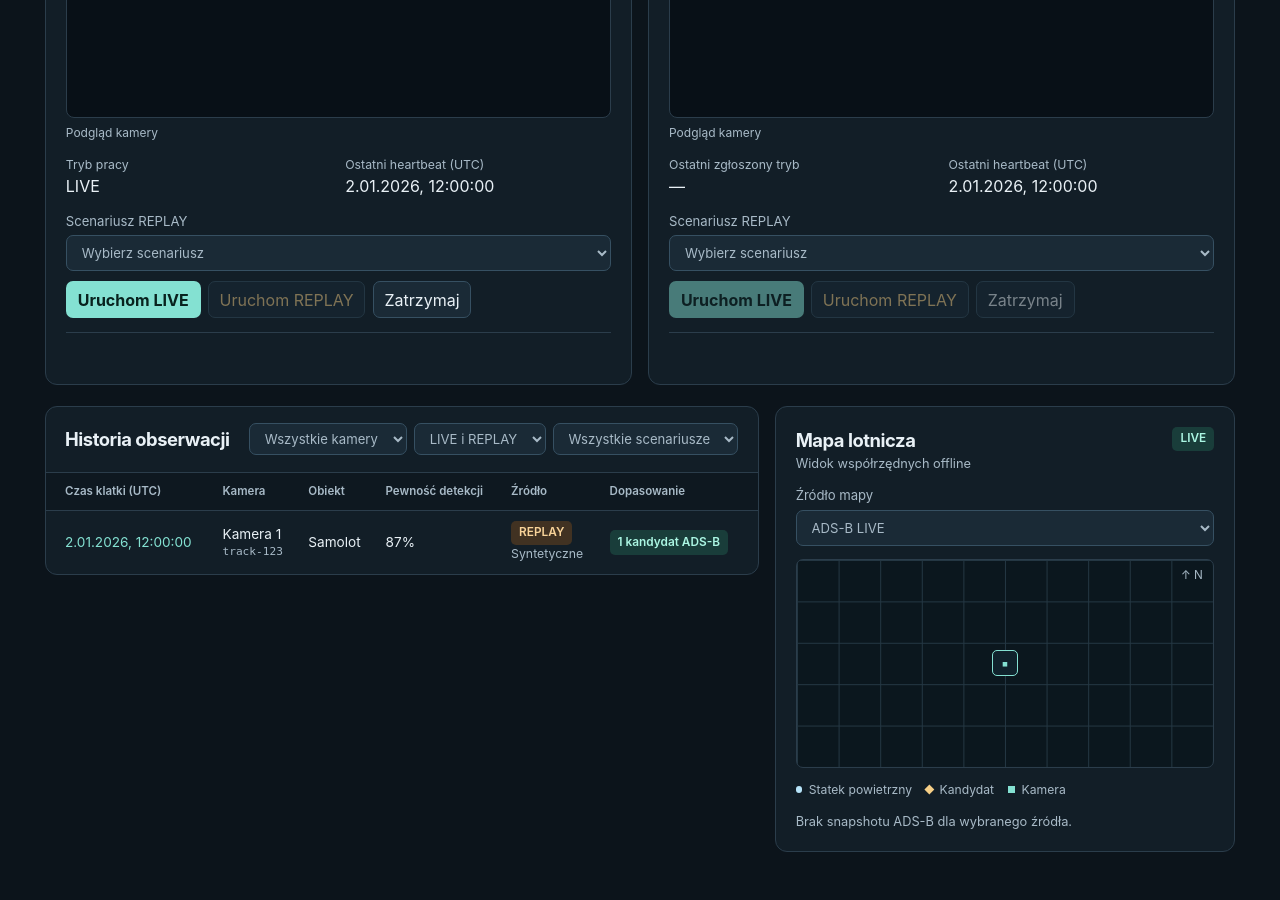
retains details with a visible error and excludes LIVE camera coordinates from REPLAY
This screenshot has width=1280, height=900.
(page scrolled)
Click the button named "Otwórz obserwację first": (128, 542) left=65, top=530, right=192, bottom=555
(page scrolled)
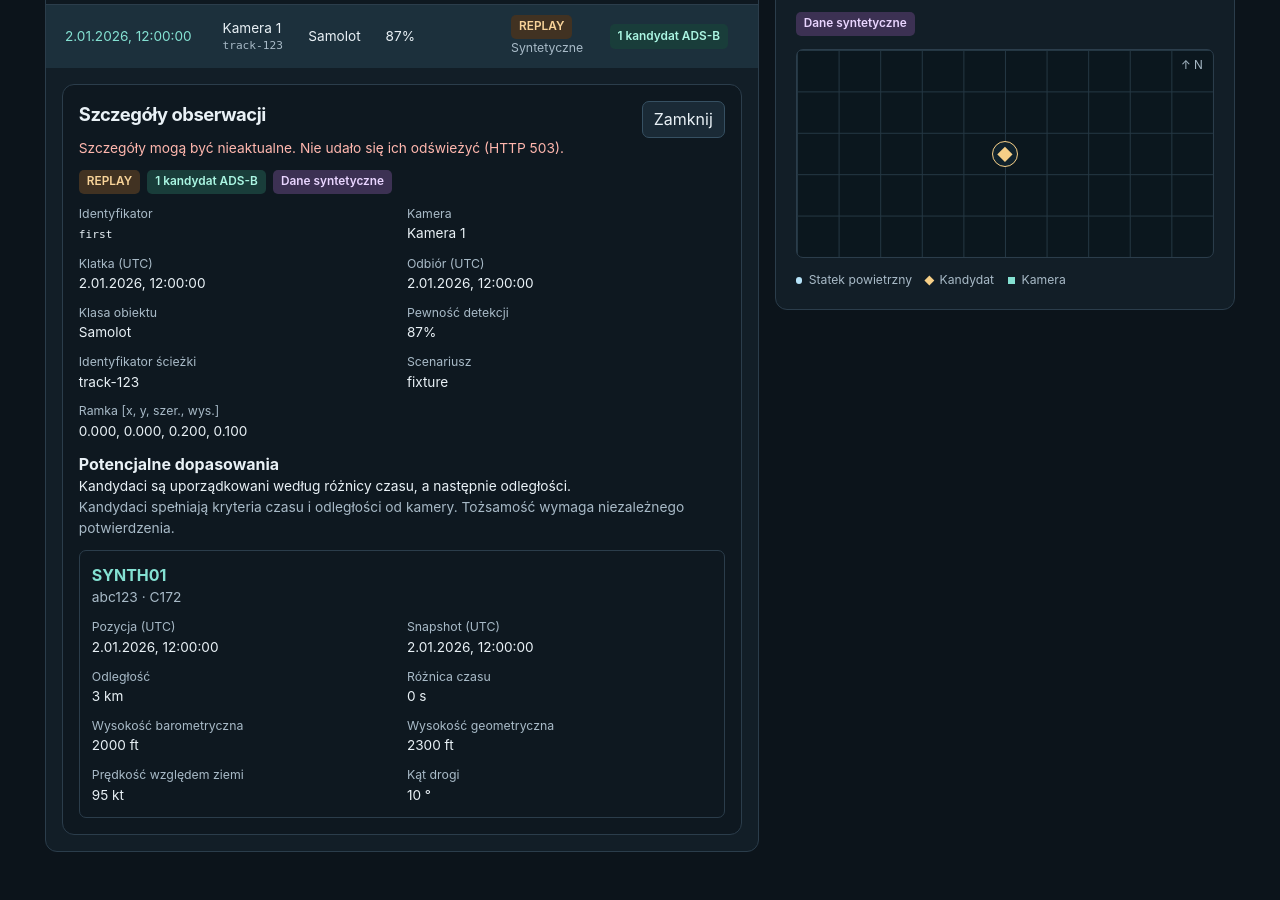
Expected: the button named "SYNTH01" is shown, left=992, top=141, right=1018, bottom=167
Expected: the message "Szczegóły mogą być nieaktualne. Nie udało się ich odświeżyć (HTTP 503)." is shown, left=79, top=140, right=564, bottom=156
Expected: the heading "SYNTH01" is shown, left=92, top=564, right=166, bottom=584
